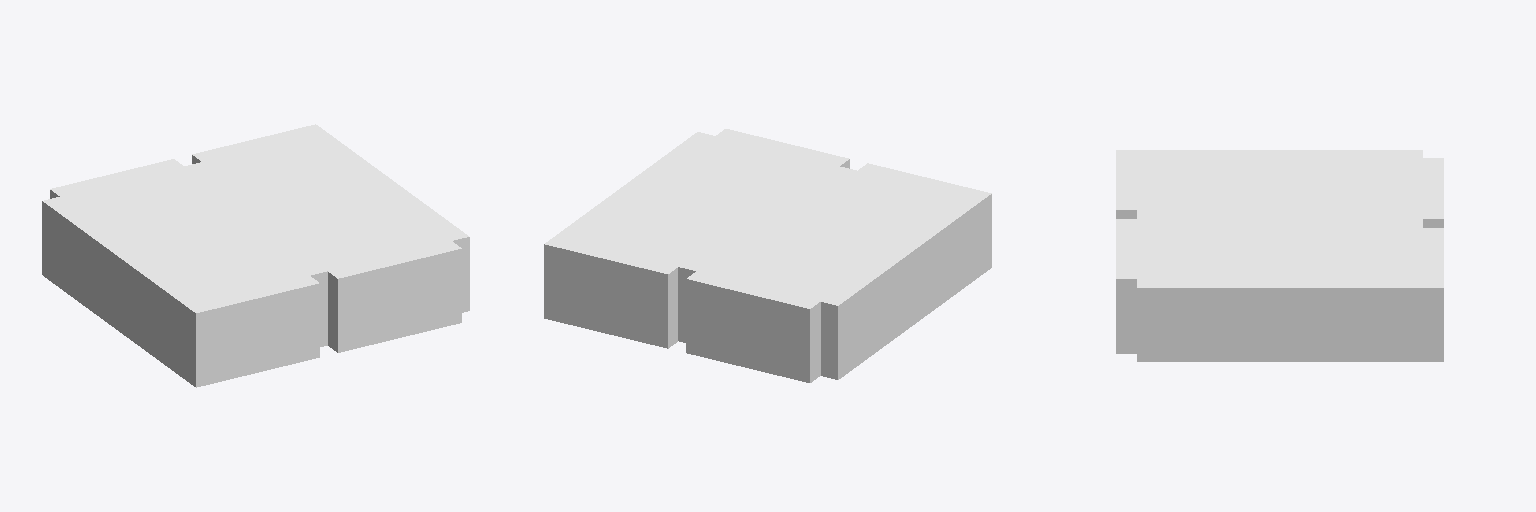
Rendered from DockGreen.vox.obj.
3 renders of one model, left to right at view 1: azimuth 30°, elevation 25°; view 2: azimuth 150°, elevation 25°; view 3: azimuth 270°, elevation 25°, orthographic.
Visible parts, largest first — view 1: object 1; view 2: object 1; view 3: object 1.
Boxes of the visible parts, <box> form: object 1: <box>42,124,469,387</box>; object 1: <box>544,129,991,382</box>; object 1: <box>1116,150,1443,361</box>.
Bounding box in the file's own units: 1.6 × 0.4 × 1.6.